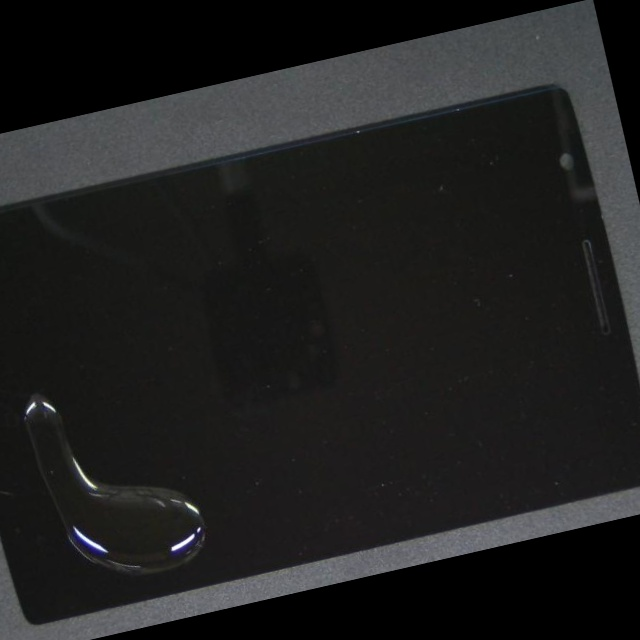oil: (102, 314, 294, 623)
